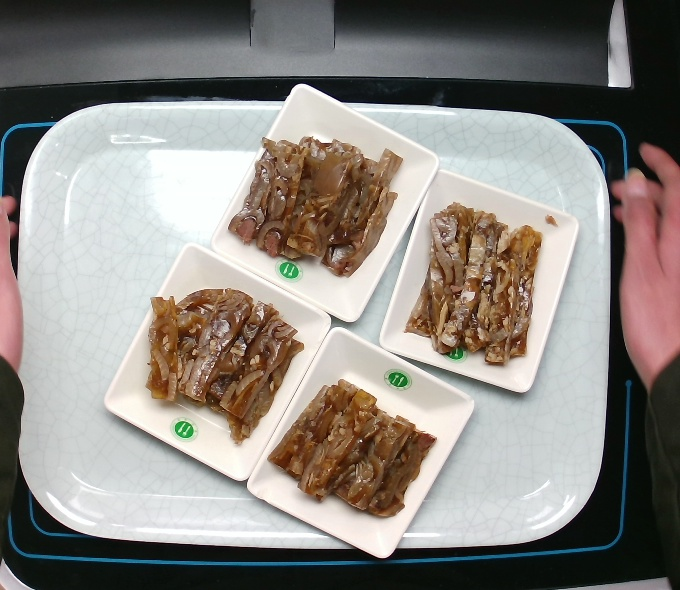wcq-DongZhuPi: (235, 125, 406, 280), (406, 192, 544, 384), (272, 372, 436, 527), (142, 278, 296, 433)
